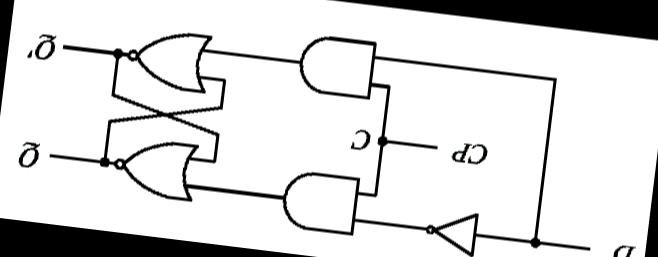and: (290, 28, 380, 104), (275, 165, 364, 240)
nor: (119, 22, 216, 98), (107, 130, 203, 206)
not: (418, 201, 484, 257)
